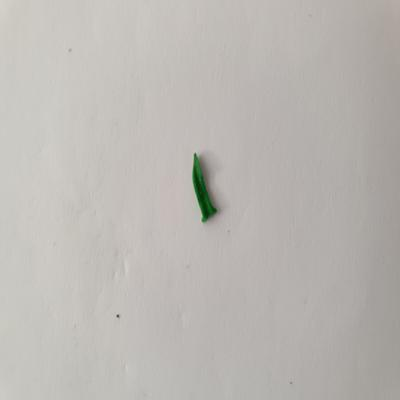plastic: (185, 148, 222, 226)
